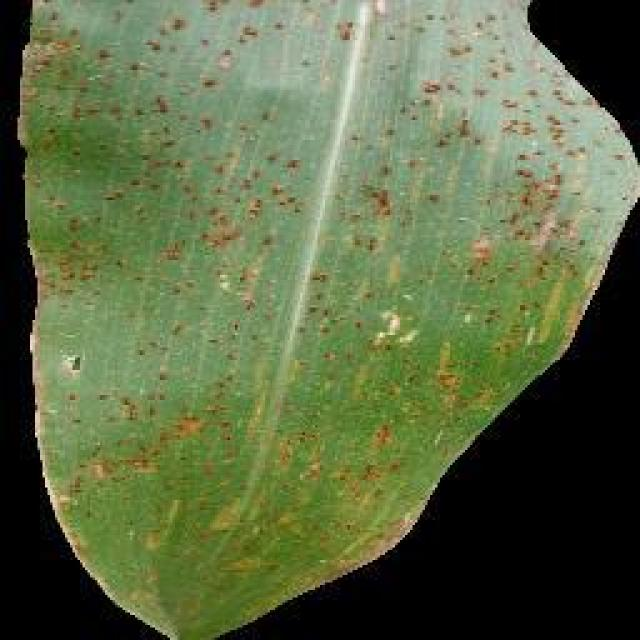Corn Common Rust: (112, 0, 560, 555)
